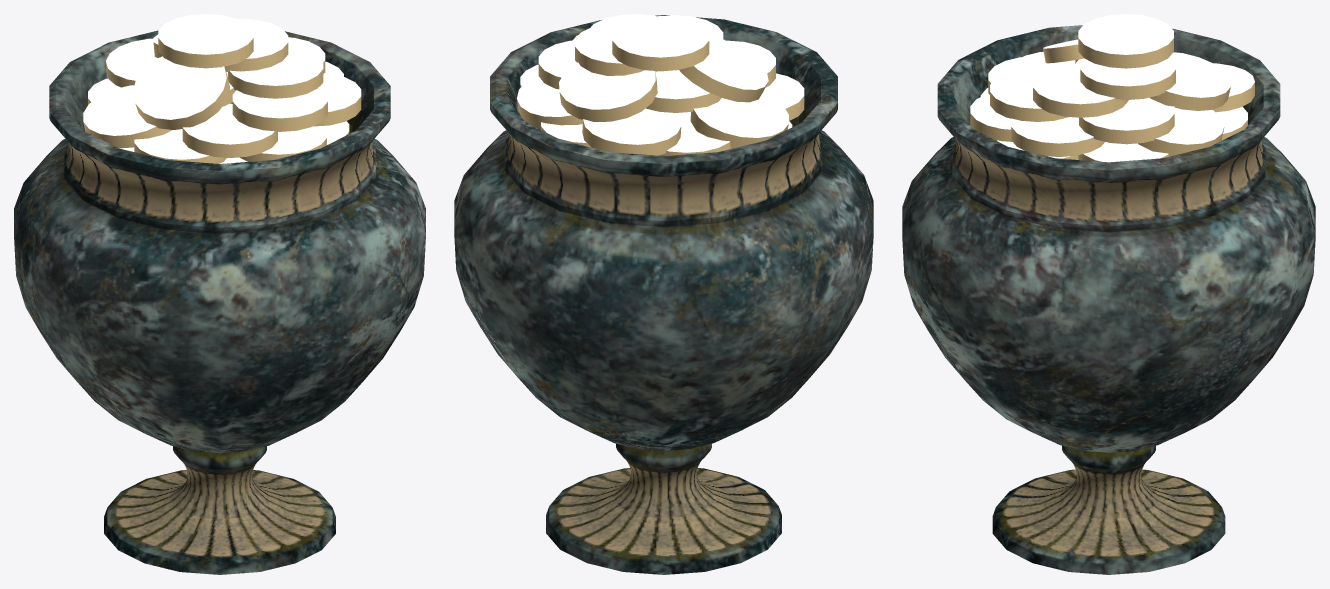
File: SM_Prop_Vases_A_Gold.fbx
3 views of the same model, side by side, from view 1: azimuth 30°, elevation 25°; view 2: azimuth 150°, elevation 25°; view 3: azimuth 270°, elevation 25° (orthographic).
Visible parts, largest first — view 1: SM_Prop_Vases_A_Gold_LOD0; view 2: SM_Prop_Vases_A_Gold_LOD0; view 3: SM_Prop_Vases_A_Gold_LOD0.
Part boxes in pixels (x1,y1,x2,y2): SM_Prop_Vases_A_Gold_LOD0: (14,14,425,574); SM_Prop_Vases_A_Gold_LOD0: (454,14,873,574); SM_Prop_Vases_A_Gold_LOD0: (902,14,1315,574).
Size of the model in its own units: 84.04 by 82.77 by 108.
Materials: 1 (1 with a texture image).
